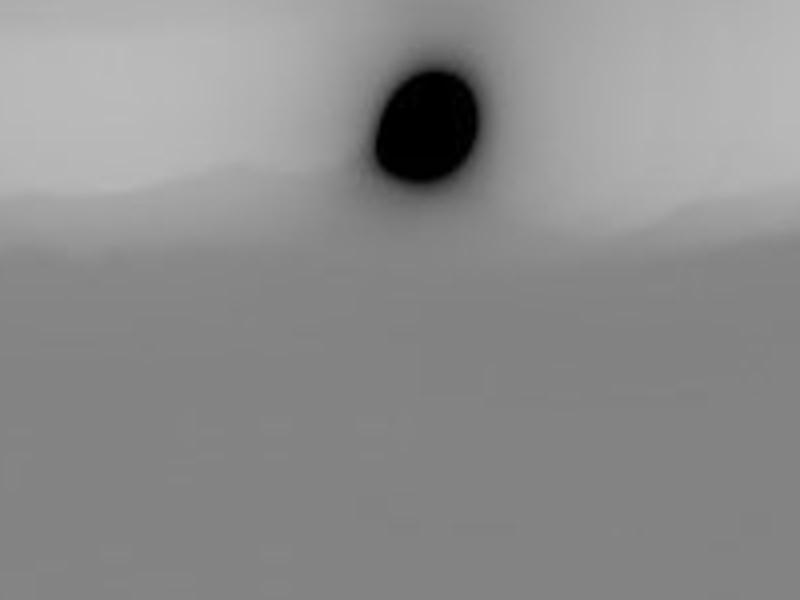defect: (371, 63, 483, 190)
